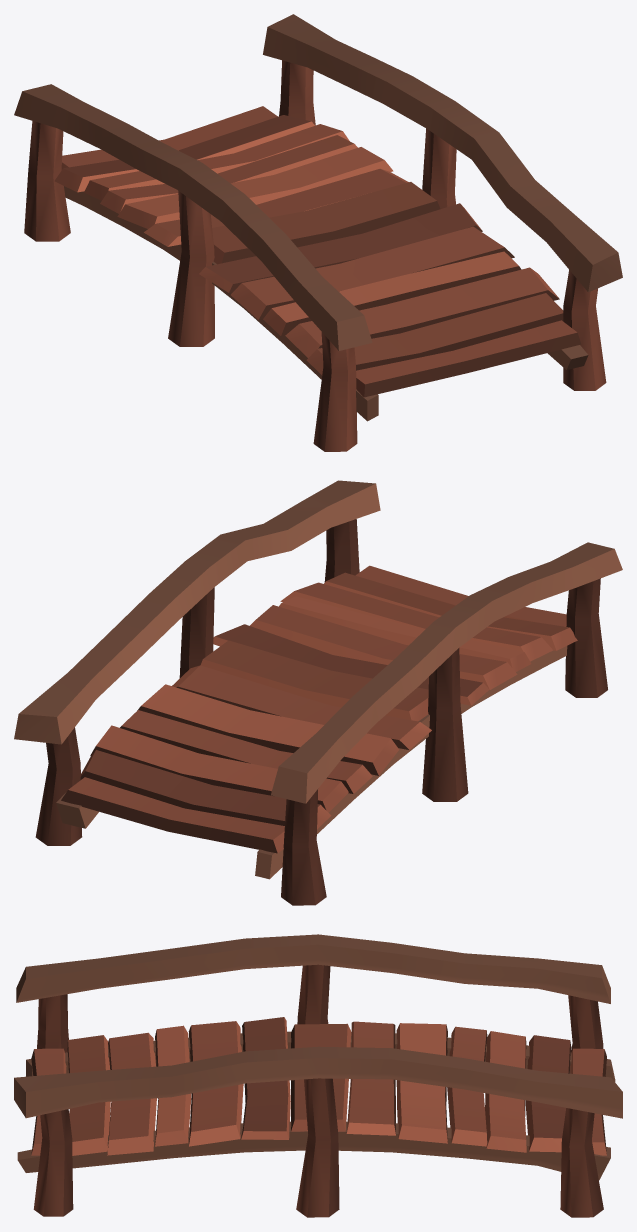
The model's file is Bridge_wooden.fbx.
3 renders of one model, top to bottom at view 1: azimuth 30°, elevation 25°; view 2: azimuth 150°, elevation 25°; view 3: azimuth 270°, elevation 25°, orthographic. The views are drawn at different scales.
Visible parts, largest first — view 1: Bridge_wooden; view 2: Bridge_wooden; view 3: Bridge_wooden.
Part boxes in pixels (<box>): Bridge_wooden: <box>14,14,622,451</box>; Bridge_wooden: <box>14,480,622,905</box>; Bridge_wooden: <box>14,934,622,1217</box>.
Size of the model in its own units: 0.07 by 0.0396 by 0.1382.
